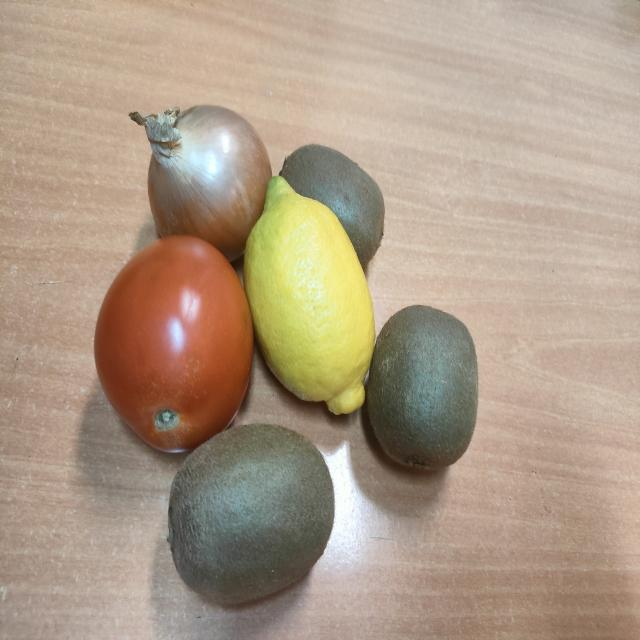lemon: (244, 177, 375, 415)
